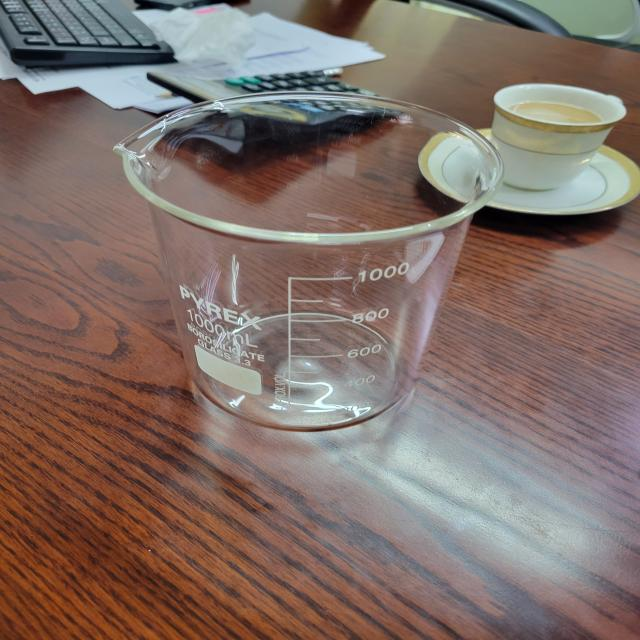Beaker: (107, 84, 509, 436)
